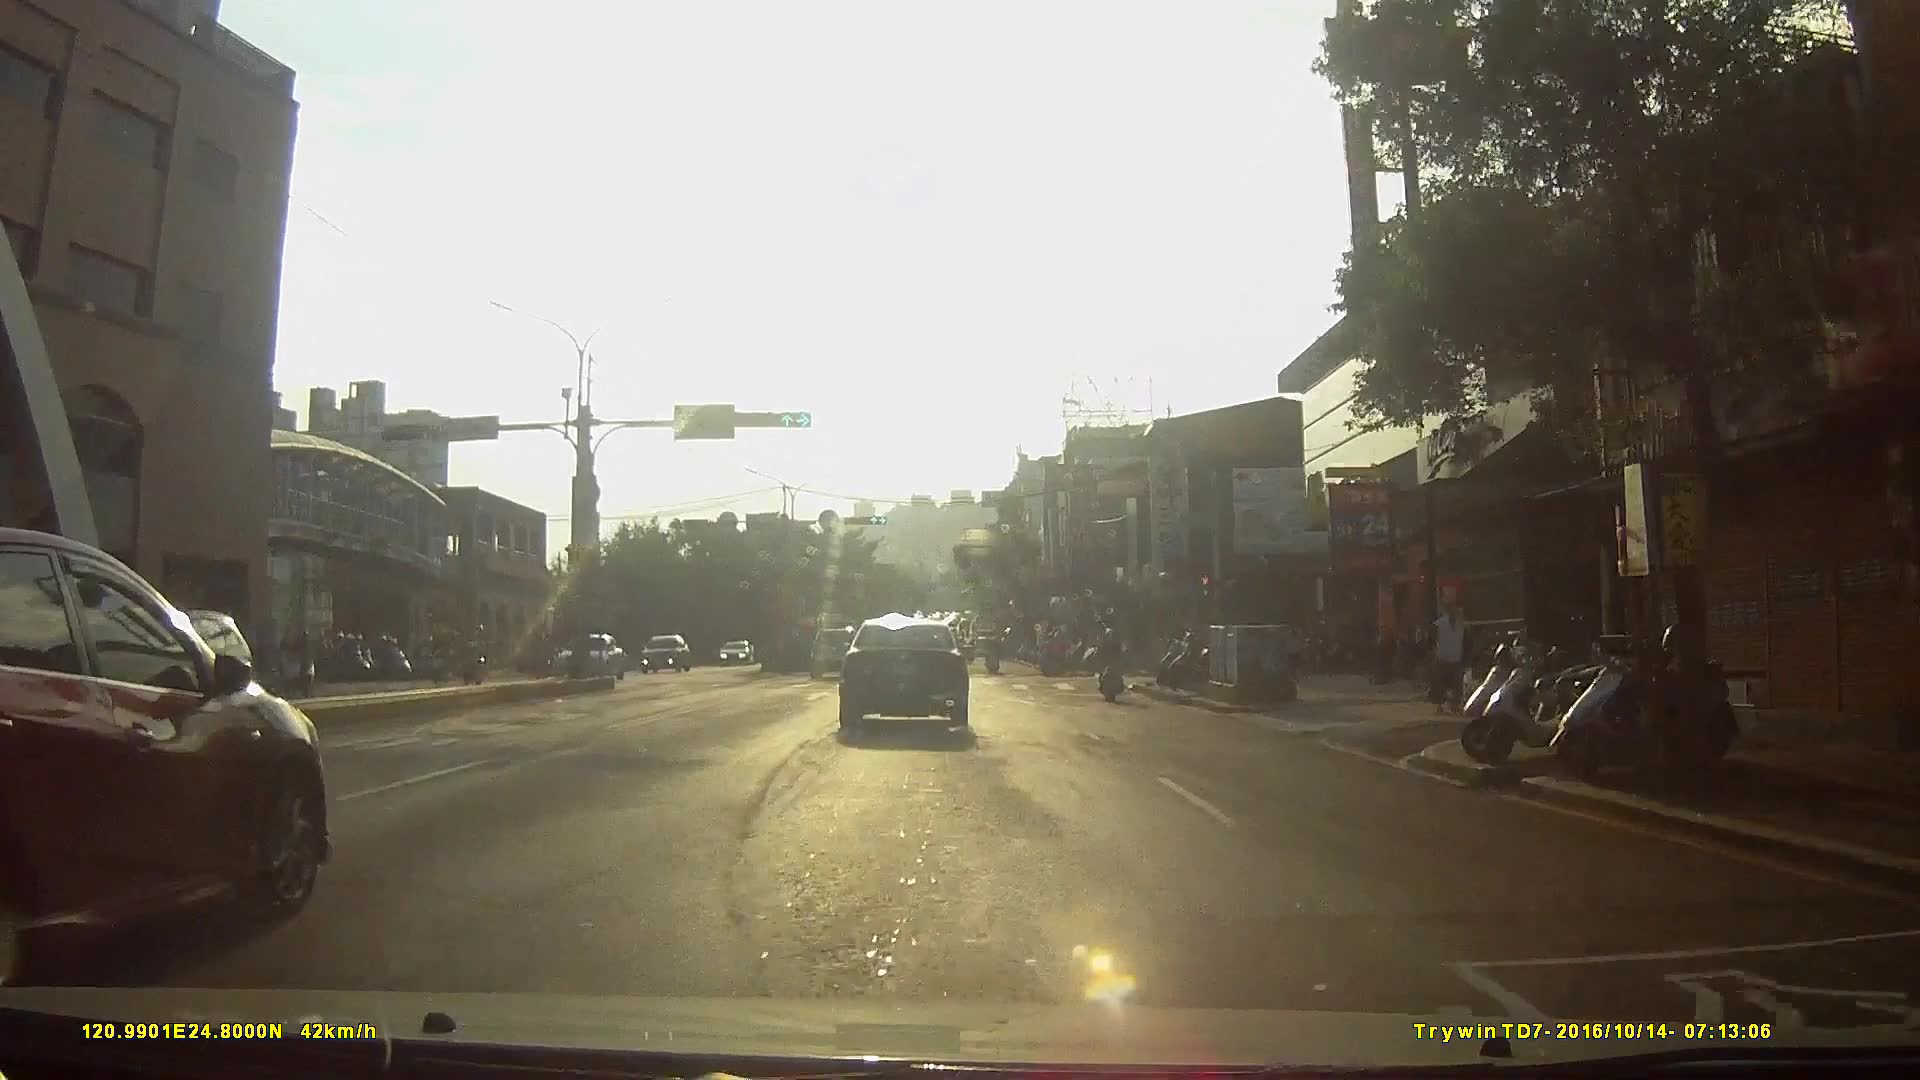pedestrian: (1422, 594, 1471, 719)
rider: (275, 627, 321, 694), (1095, 619, 1126, 697), (371, 633, 420, 682), (1038, 630, 1070, 678), (984, 632, 1004, 675)
vehicle: (1, 525, 344, 991), (836, 610, 985, 735), (112, 603, 263, 709), (556, 630, 629, 683), (807, 627, 866, 682), (642, 633, 695, 676), (715, 637, 758, 669)
